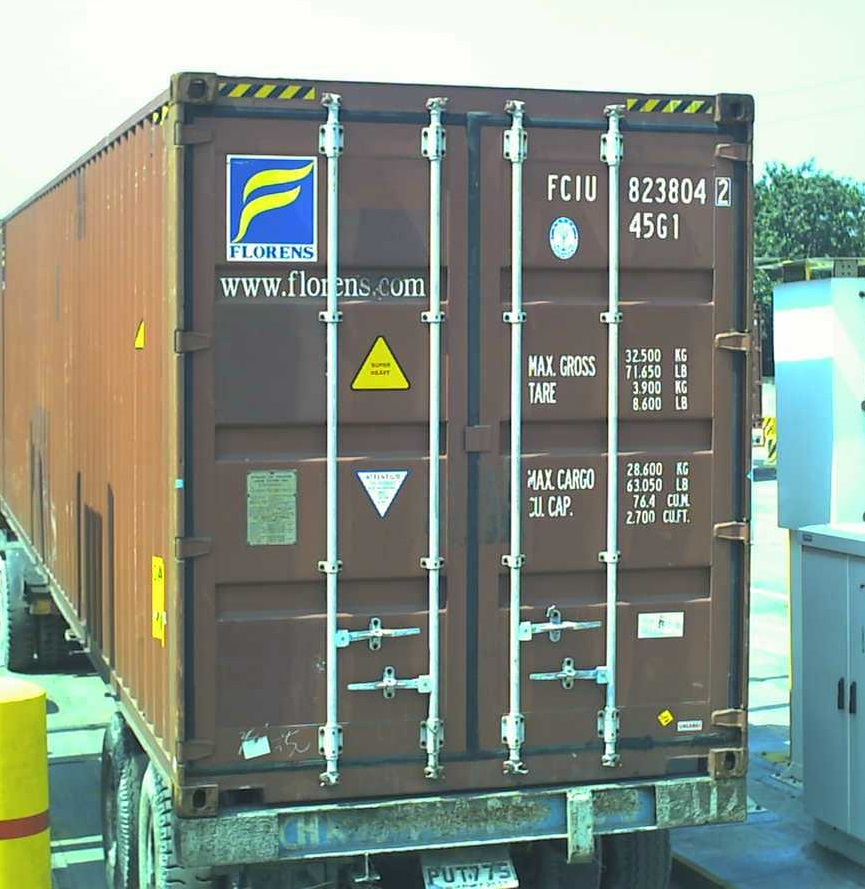container_door: (172, 71, 750, 812)
